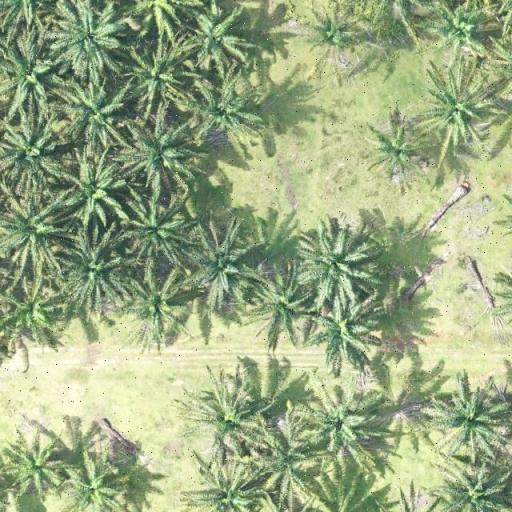Ganoderma: (433, 88, 485, 140), (377, 132, 425, 176), (311, 14, 356, 58)
